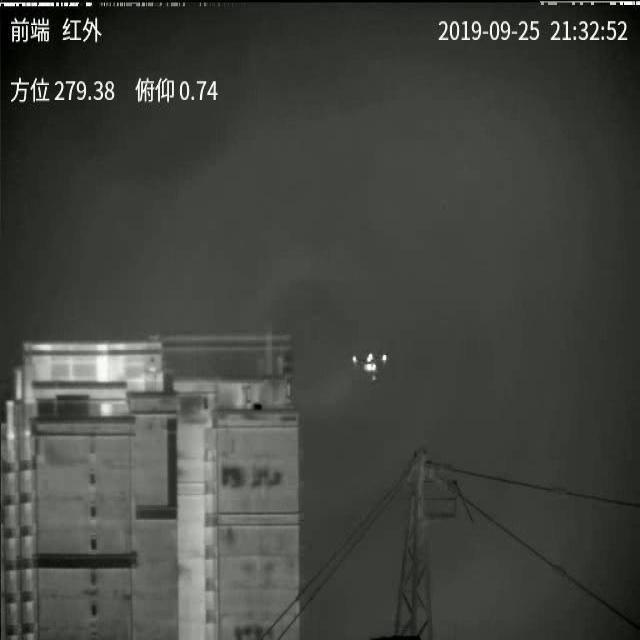drone: (358, 352, 387, 382), (352, 355, 358, 364)
